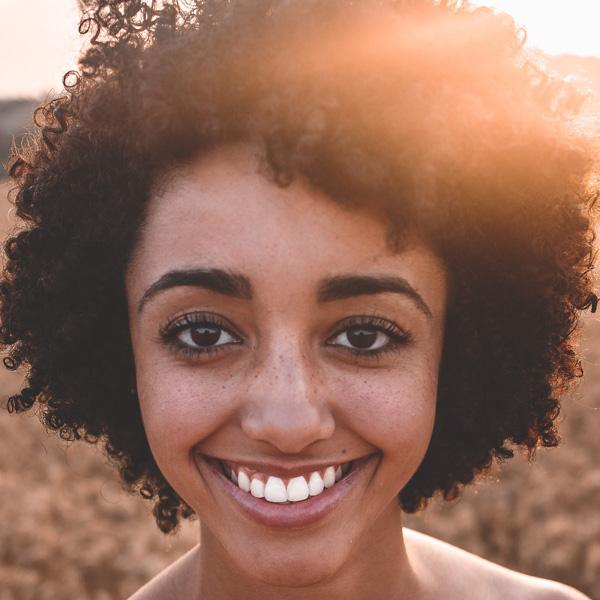Eyes: (156, 306, 252, 366), (316, 309, 412, 365)
